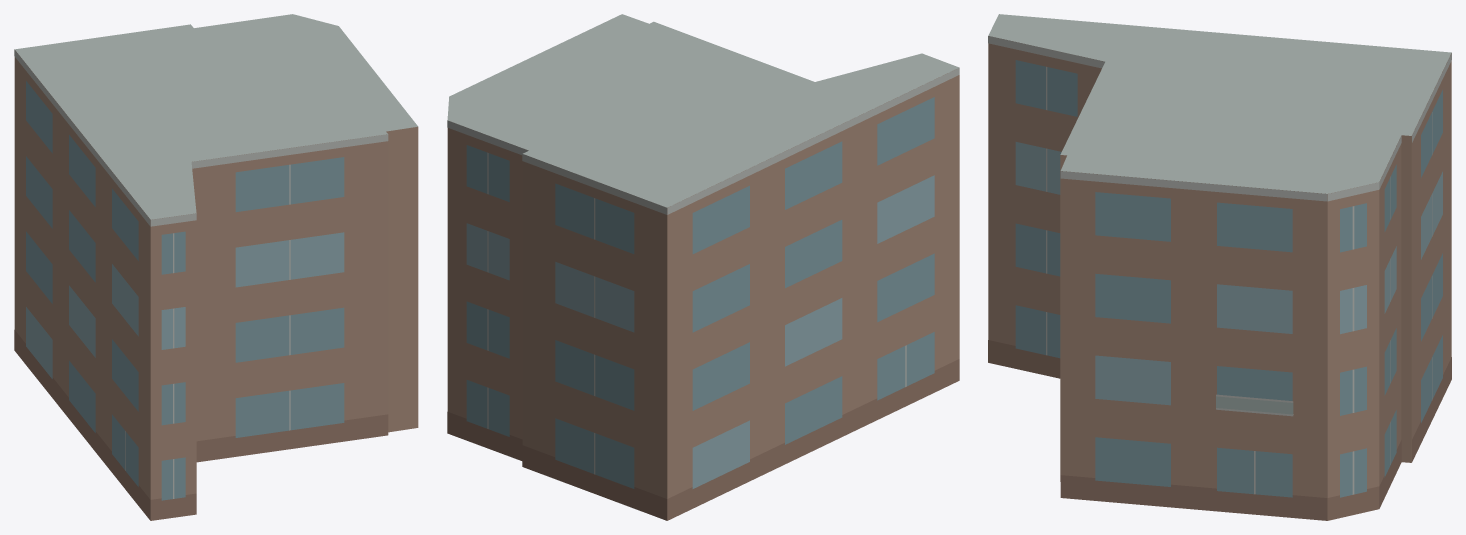
File: survey-upis-32527480.glb
3 renders of one model, left to right at view 1: azimuth 30°, elevation 25°; view 2: azimuth 150°, elevation 25°; view 3: azimuth 270°, elevation 25°, orthographic. The views are drawn at different scales.
Parts seen in each view (by area): view 1: survey-upis-32527480.tmp; view 2: survey-upis-32527480.tmp; view 3: survey-upis-32527480.tmp.
Part boxes in pixels (x1,y1,x2,y2): survey-upis-32527480.tmp: [14, 14, 418, 520]; survey-upis-32527480.tmp: [447, 14, 959, 520]; survey-upis-32527480.tmp: [988, 14, 1451, 520].
Bounding box in the file's own units: 12.4 × 10.5 × 13.5.
